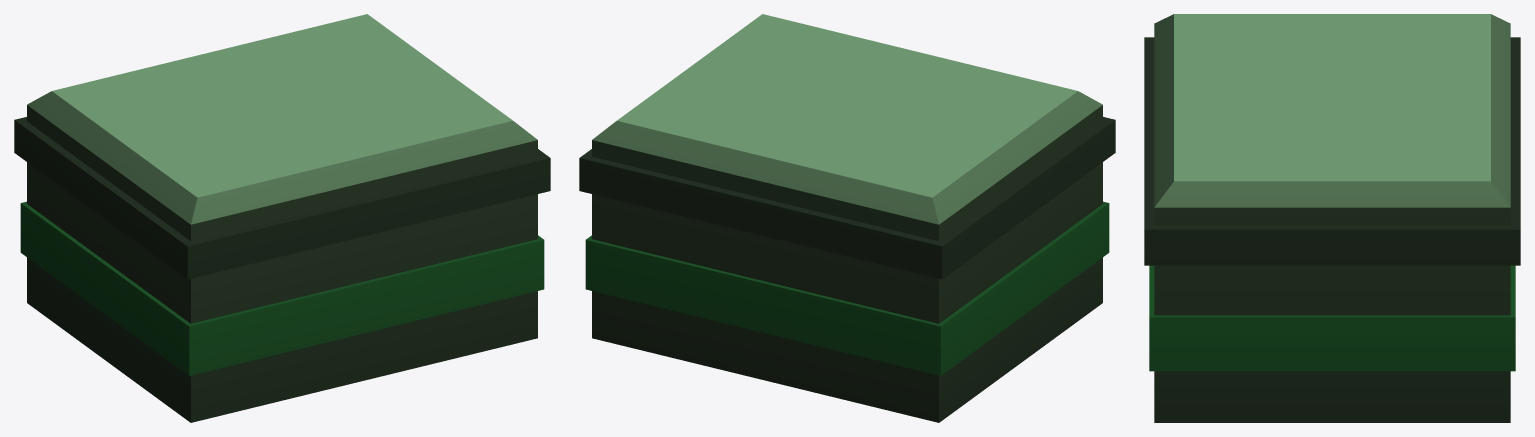
File: buffer-chest.glb
3 renders of one model, left to right at view 1: azimuth 30°, elevation 25°; view 2: azimuth 150°, elevation 25°; view 3: azimuth 270°, elevation 25°, orthographic. The views are drawn at different scales.
Parts seen in each view (by area): view 1: buffer-chest; view 2: buffer-chest; view 3: buffer-chest.
Boxes of the visible parts, left/top/right/bottom form: buffer-chest: left=14, top=14, right=550, bottom=422; buffer-chest: left=579, top=14, right=1115, bottom=422; buffer-chest: left=1144, top=14, right=1520, bottom=422.
Size of the model in its own units: 0.23 by 0.13 by 0.19.
